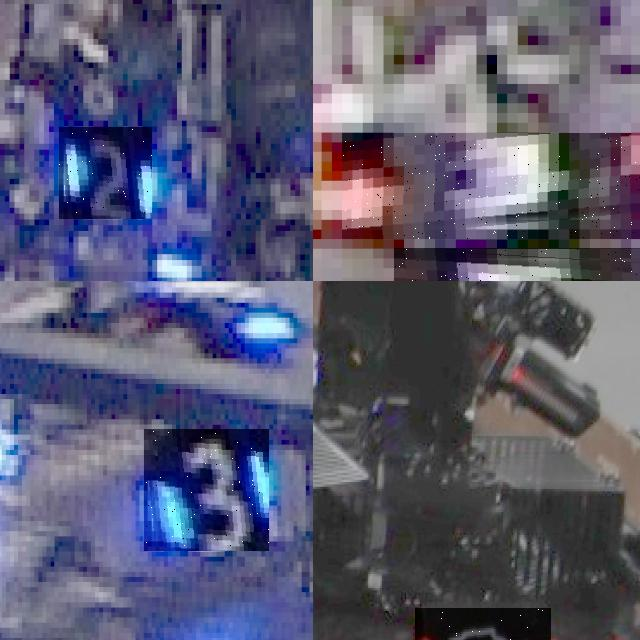B2: (59, 127, 152, 219)
B3: (144, 429, 269, 552)
R3: (342, 132, 640, 239)
Rs: (414, 608, 551, 640)
